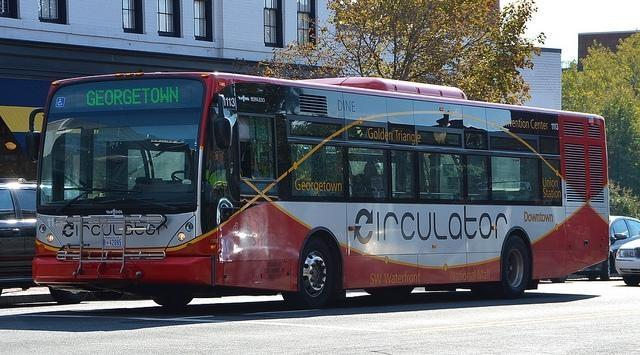bus: (27, 72, 610, 312)
car: (571, 214, 640, 282), (0, 178, 39, 288), (615, 238, 640, 286)
